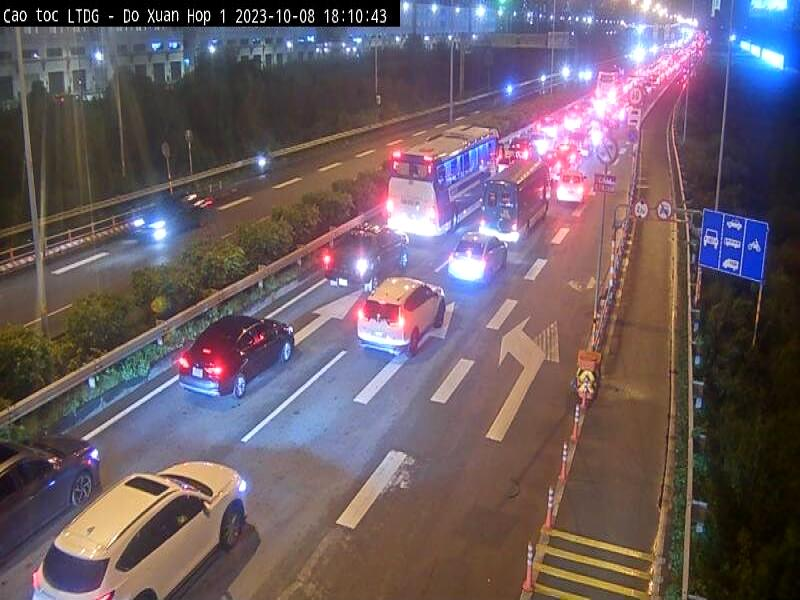bus: (386, 124, 503, 238)
car: (31, 457, 248, 600), (0, 435, 98, 558), (181, 316, 296, 400), (356, 276, 446, 360)
